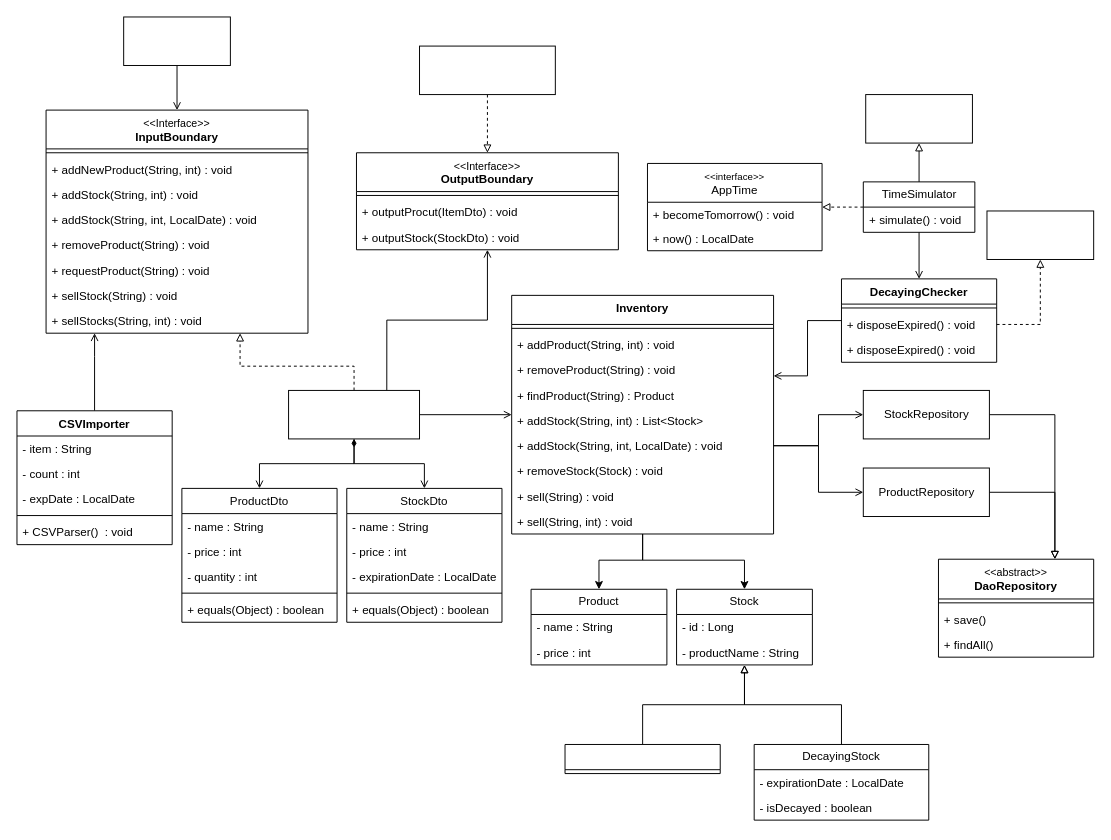
The diagram is 1111 pixels wide and 840 high, and some of its shapes have lost their labels. The centre of each missing label's shape, as x and y in pixels:
"CLIInput" belongs at [176,40].
"CLIOutputBoundary" belongs at [487,70].
"Controller (Shop)" belongs at [354,414].
"Observable" belongs at [918,118].
"Observer" belongs at [1040,234].
"UndecayingStock" belongs at [642,759].
